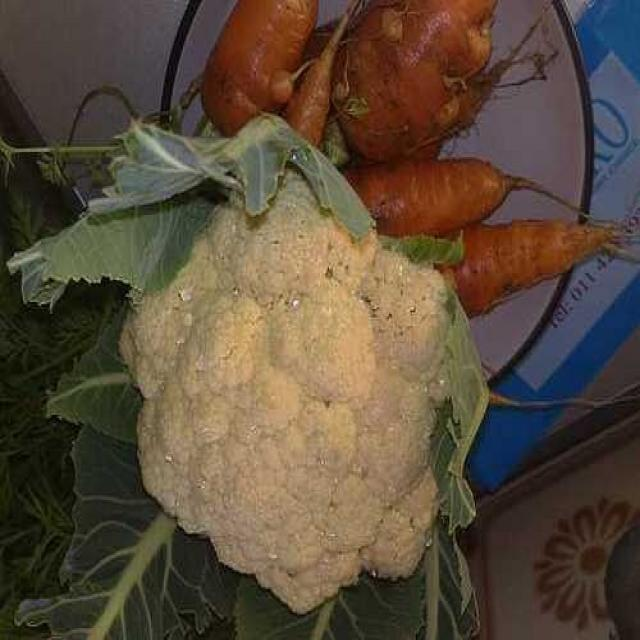cauliflower: (68, 93, 499, 598)
